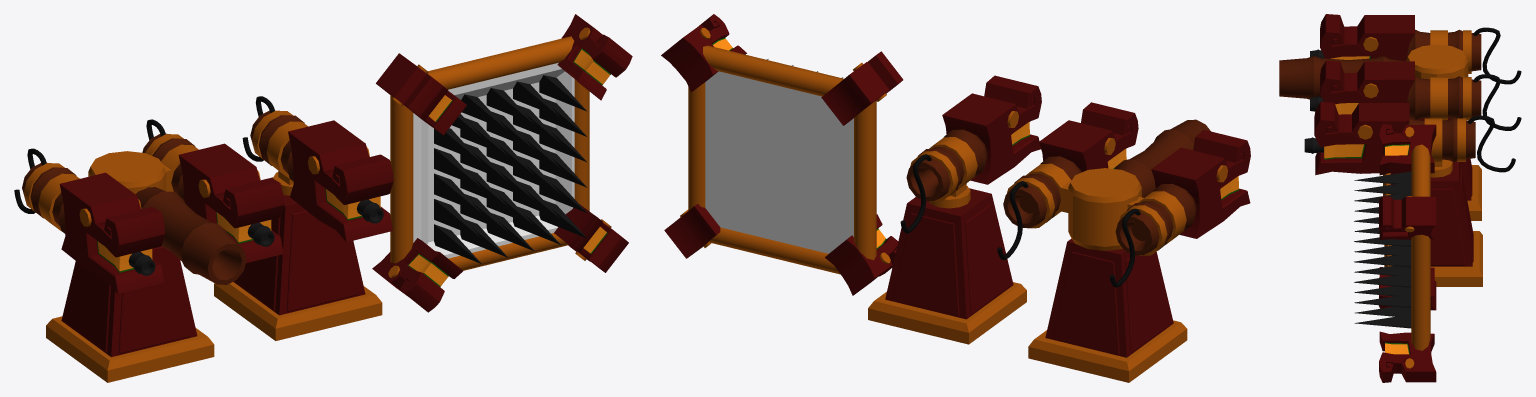
File: low poly japanese weapons.fbx
3 renders of one model, left to right at view 1: azimuth 30°, elevation 25°; view 2: azimuth 150°, elevation 25°; view 3: azimuth 270°, elevation 25°, orthographic. The views are drawn at different scales.
Visible parts, largest first — view 1: Box005, Box003, Box001, Plane003, Plane002, Plane004, Cylinder022, Box004, Box002, Cylinder064, Plane008, Cylinder062 (+41 smaller); view 2: Box005, Box001, Box003, Plane003, Plane002, Cylinder018, Plane004, Box004, Box002, Cylinder064, Cylinder062, Plane008 (+18 smaller); view 3: Plane002, Plane004, Plane003, Box001, Plane005, Plane007, Cylinder063, Cylinder022, Plane008, Cylinder015, Cylinder018, Box002 (+29 smaller).
Boxes of the visible parts, <box> form: Box005: <box>413,62,574,258</box>; Box003: <box>61,246,197,357</box>; Box001: <box>233,177,365,315</box>; Plane003: <box>59,172,165,294</box>; Plane002: <box>288,120,393,242</box>; Plane004: <box>178,143,284,263</box>; Cylinder022: <box>135,187,246,284</box>; Box004: <box>46,316,214,382</box>; Box002: <box>214,282,382,340</box>; Cylinder064: <box>390,95,413,263</box>; Plane008: <box>376,53,466,135</box>; Cylinder062: <box>427,36,573,89</box>; Box005: <box>705,71,853,253</box>; Box001: <box>885,188,1013,319</box>; Box003: <box>1045,238,1173,357</box>; Plane003: <box>1151,130,1250,238</box>; Plane002: <box>942,75,1041,184</box>; Cylinder018: <box>1068,168,1141,250</box>; Plane004: <box>1039,102,1138,172</box>; Box004: <box>1028,320,1187,382</box>; Box002: <box>868,282,1026,344</box>; Cylinder064: <box>854,100,876,260</box>; Cylinder062: <box>703,45,843,96</box>; Plane008: <box>821,51,903,125</box>; Plane002: <box>1314,102,1409,175</box>; Plane004: <box>1320,60,1414,117</box>; Plane003: <box>1320,14,1414,61</box>; Box001: <box>1392,161,1473,266</box>; Plane005: <box>1379,196,1436,239</box>; Plane007: <box>1379,331,1436,382</box>; Cylinder063: <box>1411,234,1430,350</box>; Cylinder022: <box>1279,56,1405,99</box>; Plane008: <box>1379,124,1436,175</box>; Cylinder015: <box>1407,76,1481,119</box>; Cylinder018: <box>1406,44,1468,79</box>; Box002: <box>1384,231,1482,286</box>.
Bounding box in the file's own units: 342 × 140 × 161.
